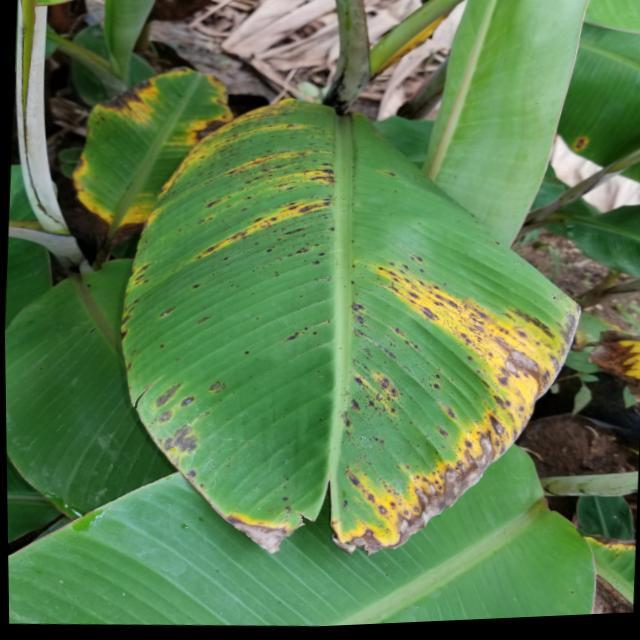Early_rust: (115, 86, 605, 546), (55, 46, 243, 226), (585, 316, 640, 405)
